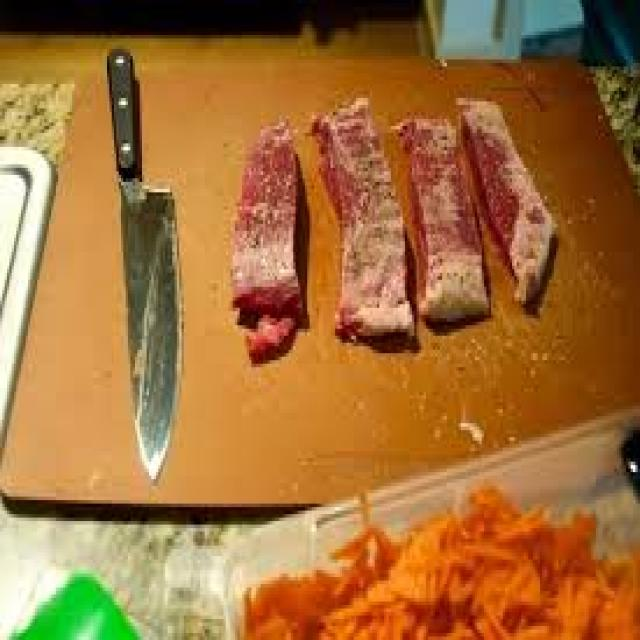Knife: (107, 45, 182, 479)
